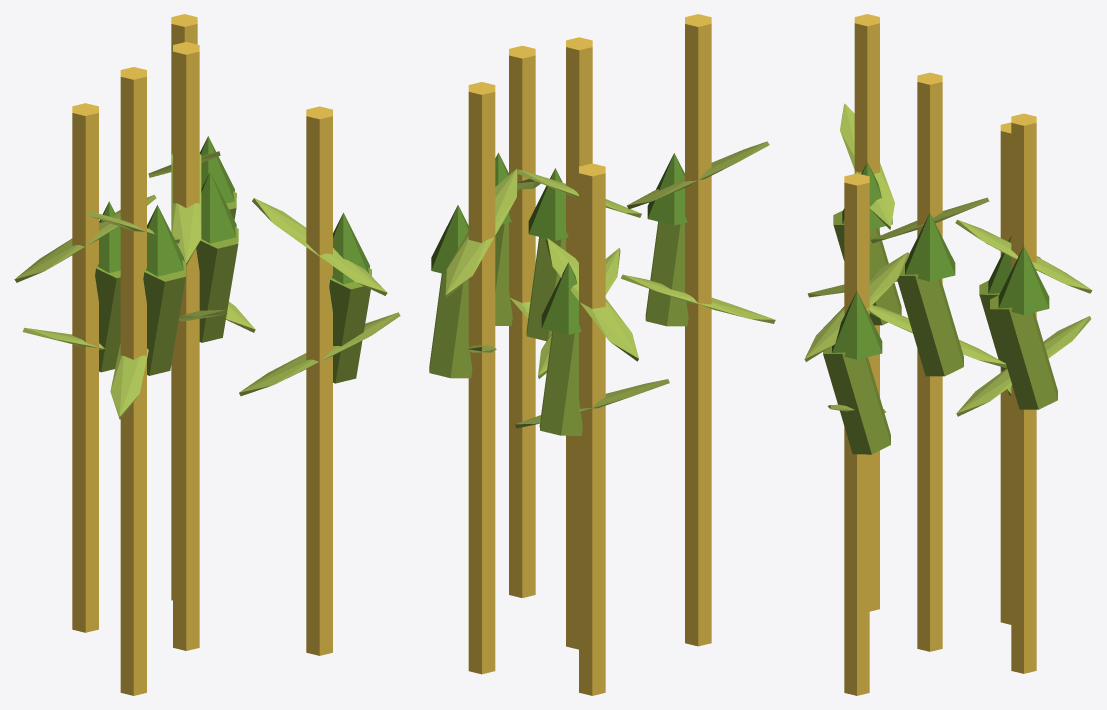
Rendered from M23_CornStalks.fbx.
The picture shows the model from 3 angles, left to right: view 1: azimuth 30°, elevation 25°; view 2: azimuth 150°, elevation 25°; view 3: azimuth 270°, elevation 25°; orthographic projection. The views are drawn at different scales.
Parts seen in each view (by area): view 1: M23_CornStalks; view 2: M23_CornStalks; view 3: M23_CornStalks.
Boxes of the visible parts, box(x1,y1,x2,y2) form: M23_CornStalks: box(14, 14, 400, 695); M23_CornStalks: box(429, 14, 775, 695); M23_CornStalks: box(804, 14, 1092, 695).
Bounding box in the file's own units: 3.22 × 6.2 × 2.76.
1 material, 1 textured.
